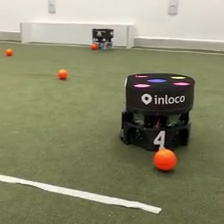ball: (151, 147, 178, 172), (56, 67, 68, 79), (5, 47, 13, 56), (90, 41, 98, 49)
goal: (19, 21, 136, 49)
robot: (117, 70, 198, 154), (89, 26, 115, 51)
